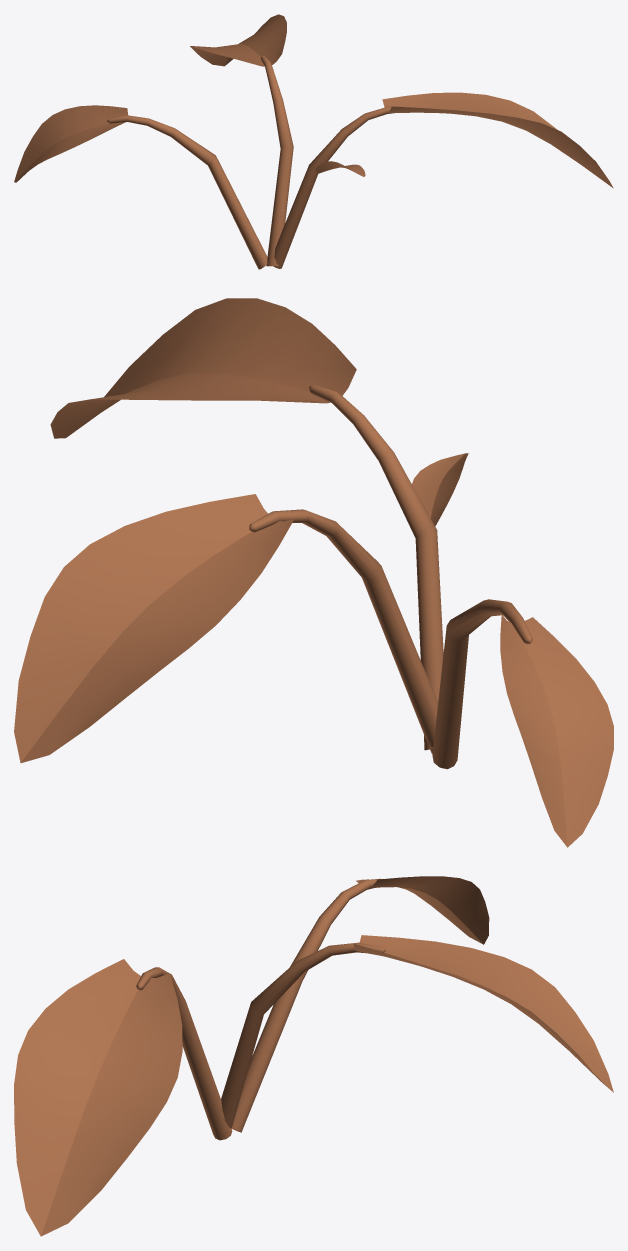
The model's file is Small Plant.fbx.
3 views of the same model, one above another, from view 1: azimuth 30°, elevation 25°; view 2: azimuth 150°, elevation 25°; view 3: azimuth 270°, elevation 25° (orthographic). The views are drawn at different scales.
Visible parts, largest first — view 1: Small_Plant; view 2: Small_Plant; view 3: Small_Plant.
Boxes of the visible parts, x1,y1,x2,y2 form: Small_Plant: (14,14,613,269); Small_Plant: (14,298,613,847); Small_Plant: (14,876,613,1236).
Size of the model in its own units: 0.6166 by 0.2259 by 0.5216.
